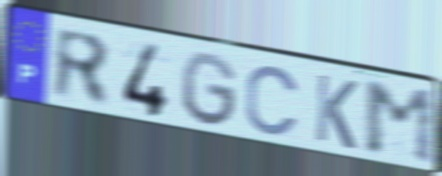4: (120, 39, 171, 120)
C: (243, 63, 302, 139)
G: (179, 50, 240, 131)
K: (312, 71, 360, 154)
M: (361, 79, 438, 168)
R: (52, 24, 112, 111)
